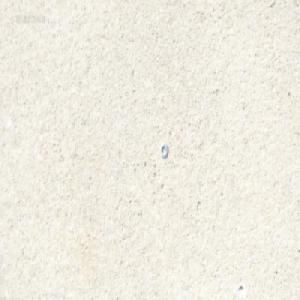Washer: (160, 143, 167, 158)
